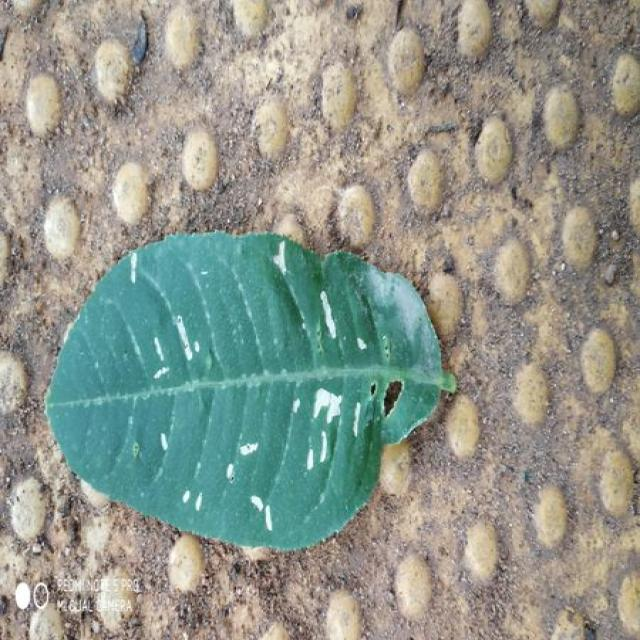badipala: (47, 234, 453, 549)
defectedbadipala: (220, 246, 452, 493)
